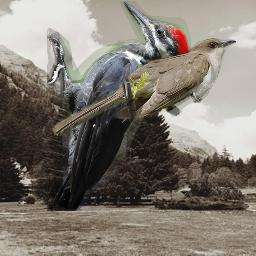Cuckoo: (51, 37, 236, 136)
Woodpecker: (47, 1, 191, 211)
